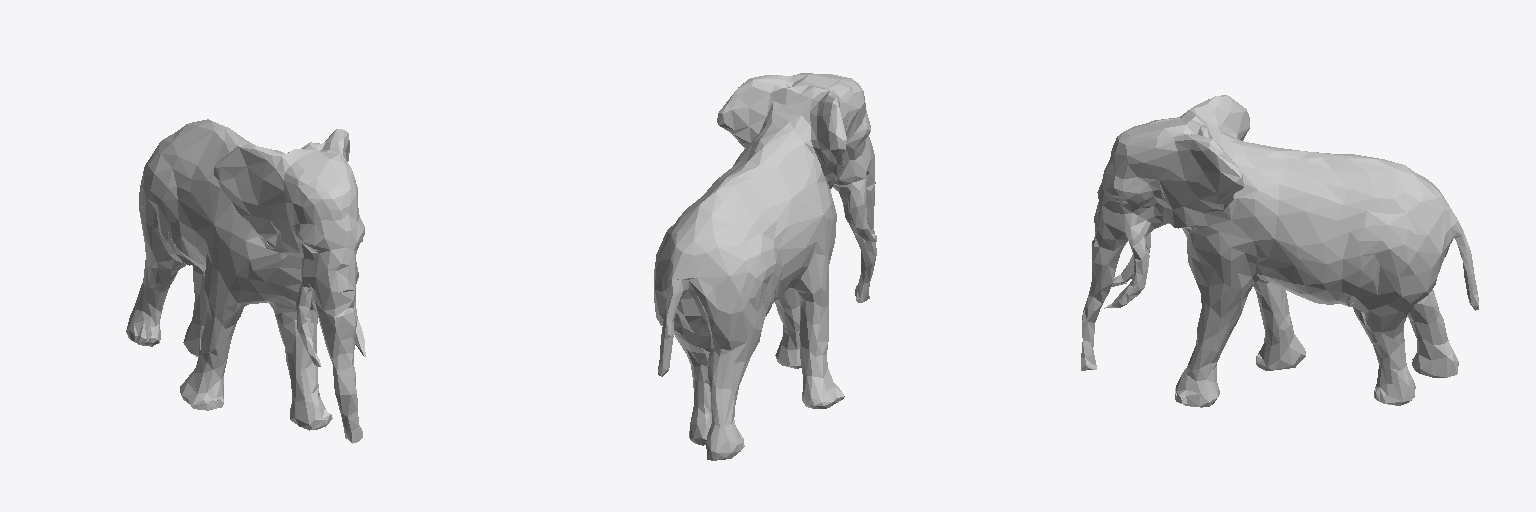
Rendered from elephant_small.obj.
3 views of the same model, side by side, from view 1: azimuth 30°, elevation 25°; view 2: azimuth 150°, elevation 25°; view 3: azimuth 270°, elevation 25° (orthographic).
Visible parts, largest first — view 1: mesh_0; view 2: mesh_0; view 3: mesh_0.
Part boxes in pixels (bbox=[...]): mesh_0: bbox=[126, 119, 365, 443]; mesh_0: bbox=[654, 73, 876, 460]; mesh_0: bbox=[1081, 95, 1478, 407].
Size of the model in its own units: 1.24 by 2.4 by 3.04.